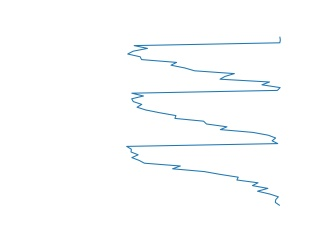distributaryMouthBar: (124, 37, 285, 208)
